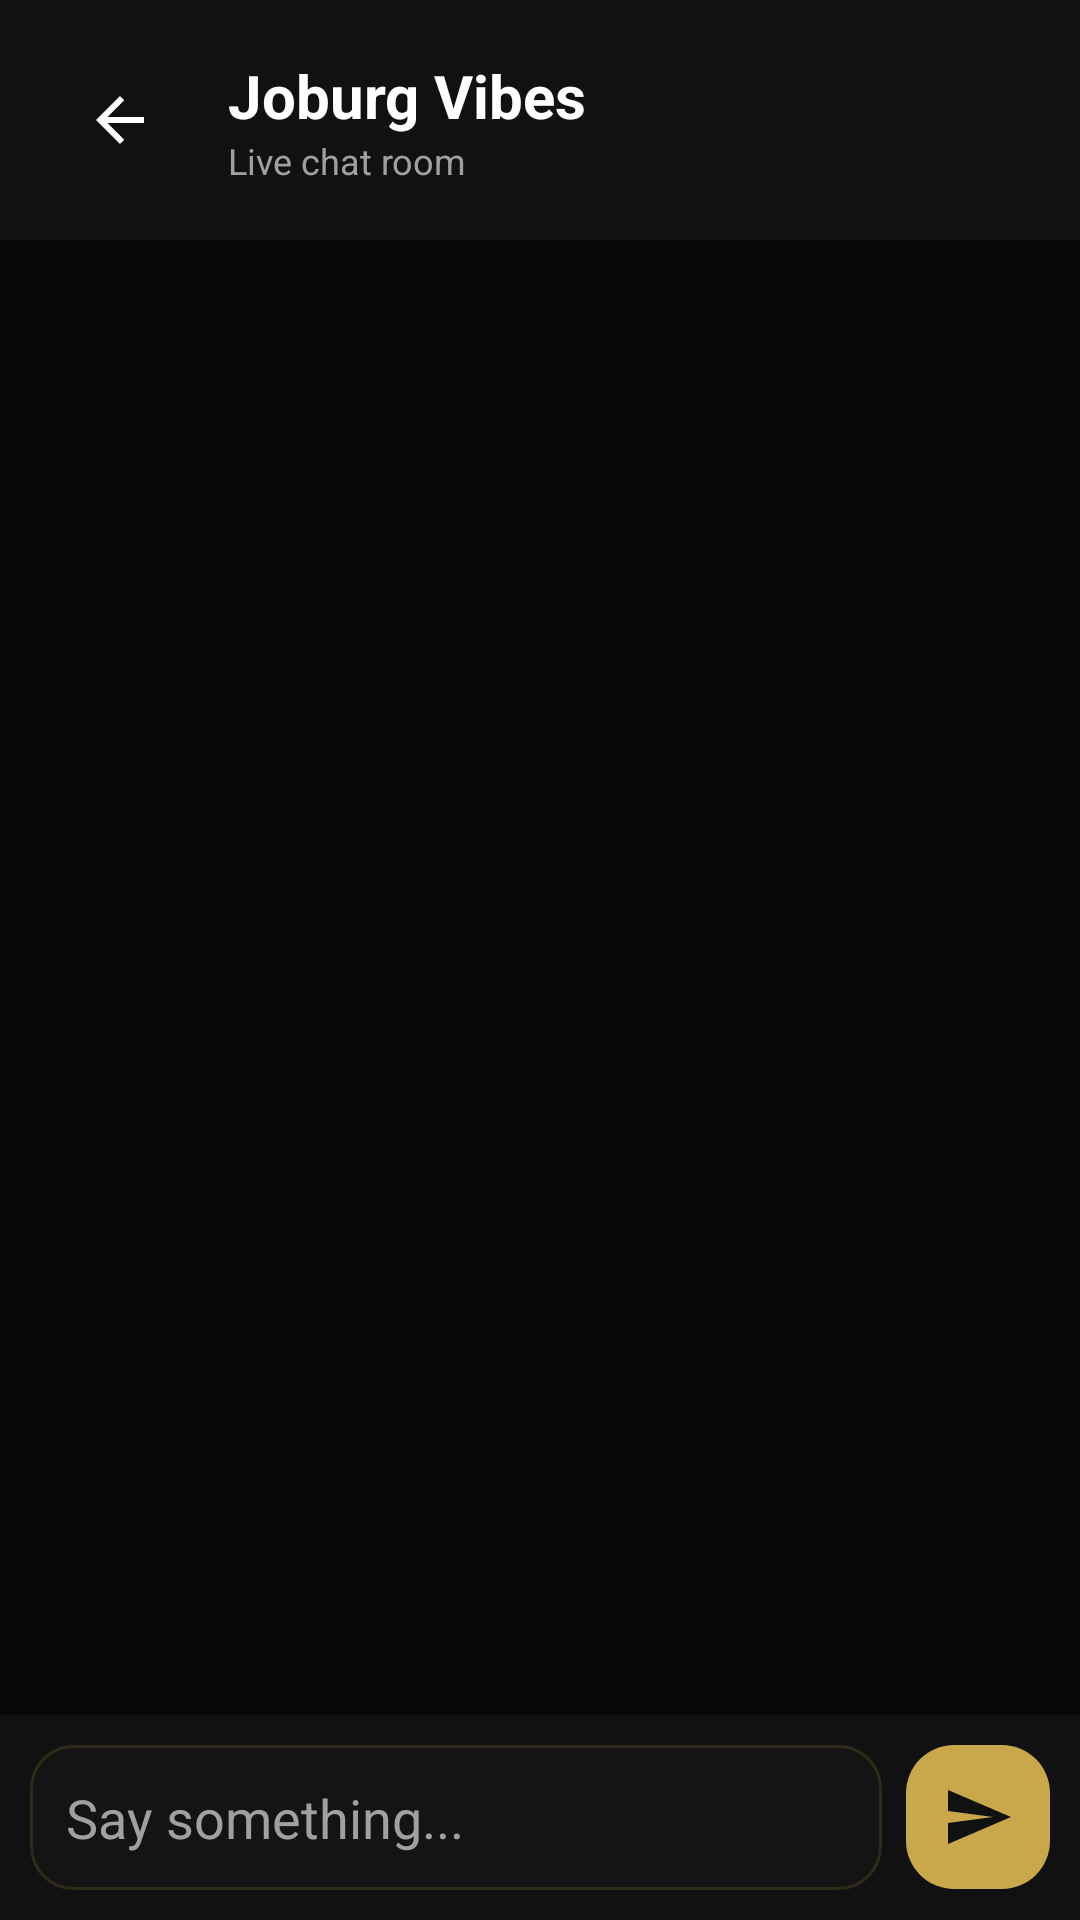

Locate icon controls on the screen. Image size 1080px×1920px, boxes as (x1, y1, x2, y2).
Back: (96, 96, 144, 144)
Send room message: (906, 1745, 1050, 1889)
